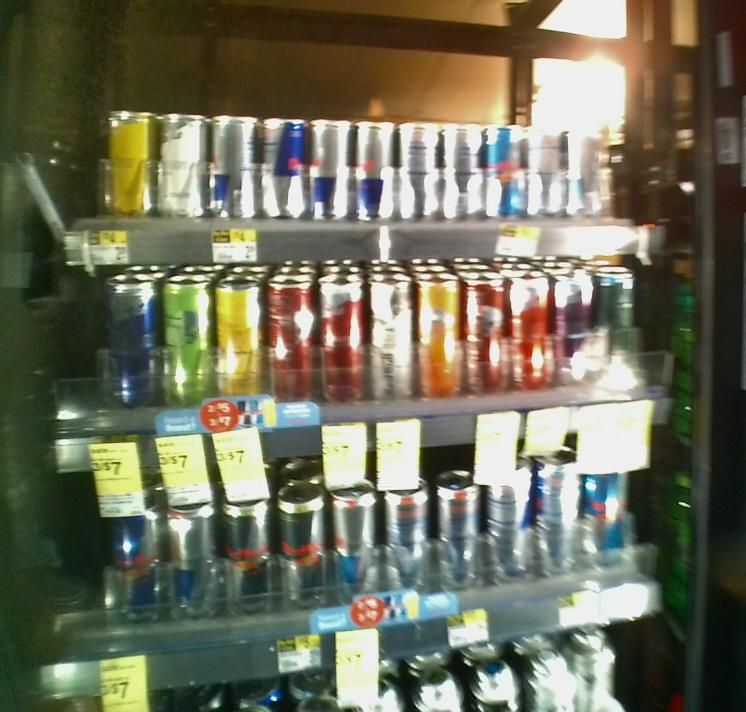bottle: (273, 484, 330, 620), (105, 269, 158, 413), (215, 262, 265, 411), (106, 489, 161, 622), (222, 485, 274, 622), (161, 270, 212, 408), (436, 470, 488, 600), (381, 474, 432, 606), (320, 271, 368, 410), (166, 488, 215, 623), (371, 269, 418, 406), (334, 468, 380, 607), (105, 98, 156, 222), (591, 443, 637, 580), (267, 273, 315, 398), (540, 447, 585, 576), (261, 96, 307, 222), (160, 104, 207, 219), (492, 463, 535, 587), (422, 264, 462, 397), (466, 272, 508, 397), (599, 254, 637, 392), (446, 100, 486, 229), (212, 99, 254, 218), (311, 103, 353, 222), (555, 268, 596, 386), (511, 266, 550, 389), (359, 103, 398, 222), (403, 105, 441, 223), (490, 106, 526, 223)
